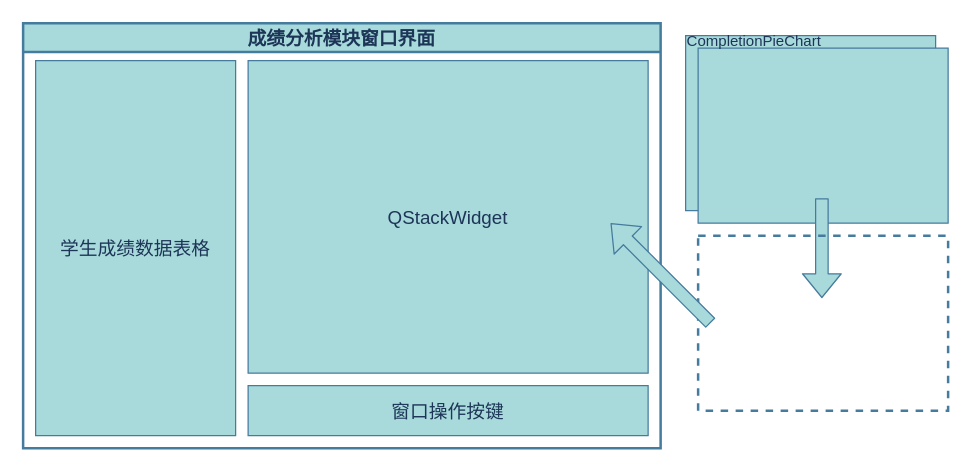
The diagram is 970 pixels wide and 470 high, and some of its shapes have lost their labels. The shapes that lost their labels are listed below. From the top down, each one's centre as x and y in pixels, then its label:
point (822, 135): GradeVisualizationWidget
point (822, 322): QVBoxLayout
